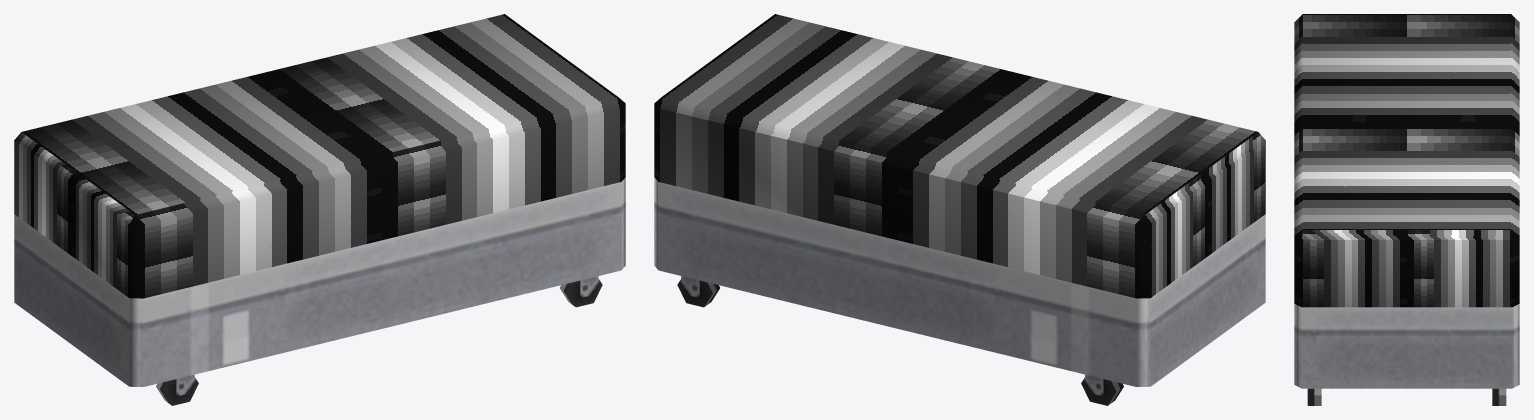
Rendered from rmk_mse_case01.dae.
The picture shows the model from 3 angles, left to right: view 1: azimuth 30°, elevation 25°; view 2: azimuth 150°, elevation 25°; view 3: azimuth 270°, elevation 25°; orthographic projection. The views are drawn at different scales.
Visible parts, largest first — view 1: rmk_mse_case01; view 2: rmk_mse_case01; view 3: rmk_mse_case01.
Part boxes in pixels (x1=…): rmk_mse_case01: x1=14, y1=14, x2=625, y2=405; rmk_mse_case01: x1=654, y1=14, x2=1265, y2=405; rmk_mse_case01: x1=1294, y1=14, x2=1519, y2=405.
Bounding box in the file's own units: 56 × 21.84 × 24.
3 materials, 3 textured.
